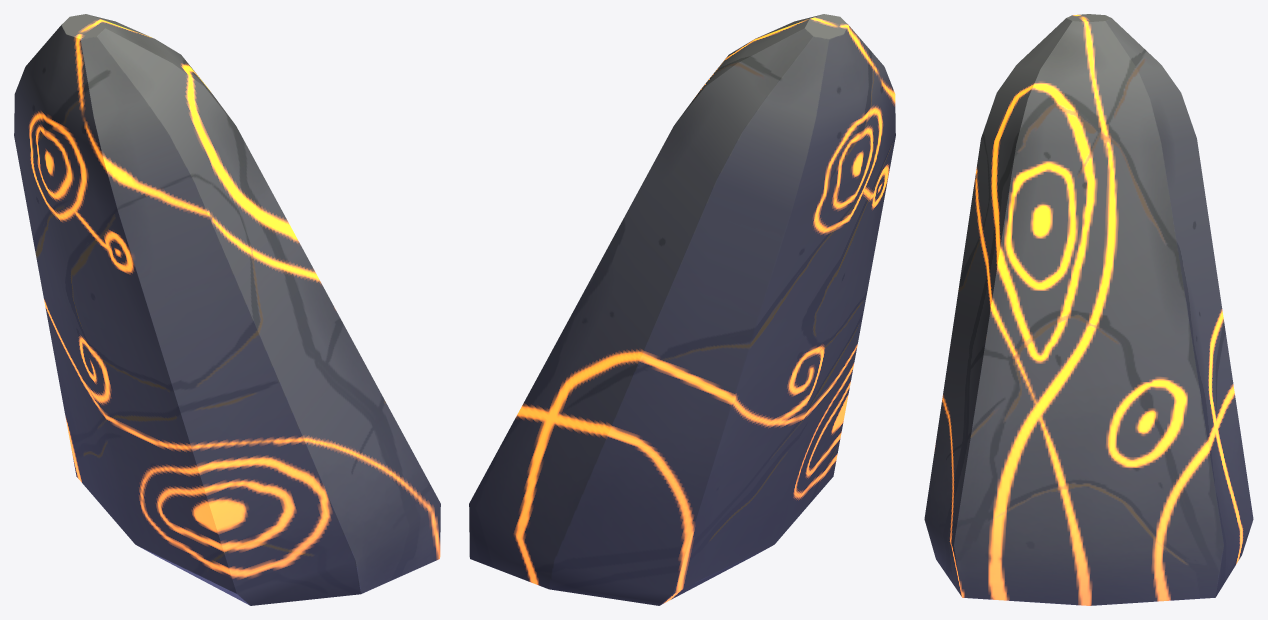
Rendered from rock_y1.fbx.
3 renders of one model, left to right at view 1: azimuth 30°, elevation 25°; view 2: azimuth 150°, elevation 25°; view 3: azimuth 270°, elevation 25°, orthographic. The views are drawn at different scales.
Parts seen in each view (by area): view 1: Cube.003.frozen; view 2: Cube.003.frozen; view 3: Cube.003.frozen.
Part boxes in pixels (x1,y1,x2,y2): Cube.003.frozen: (14, 14, 440, 605); Cube.003.frozen: (469, 14, 895, 605); Cube.003.frozen: (924, 14, 1253, 605).
Size of the model in its own units: 135 by 209 by 134.
1 material, 1 textured.
